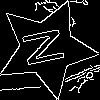N: (22, 23, 75, 69)
